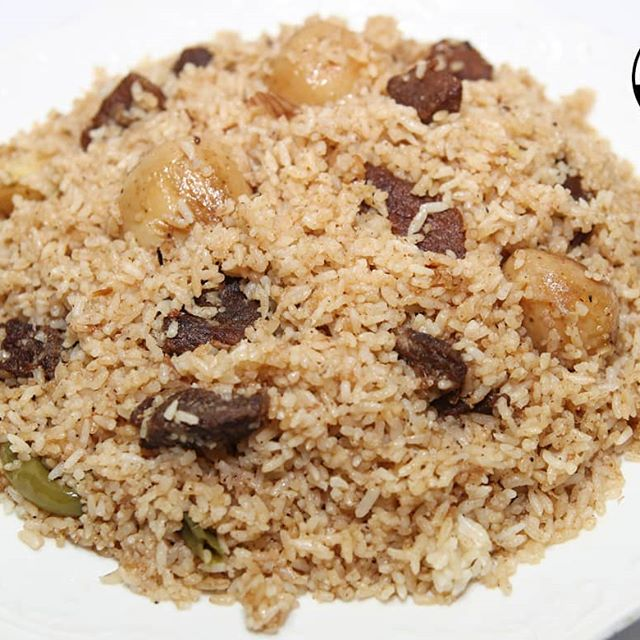tehari: (3, 8, 640, 601)
